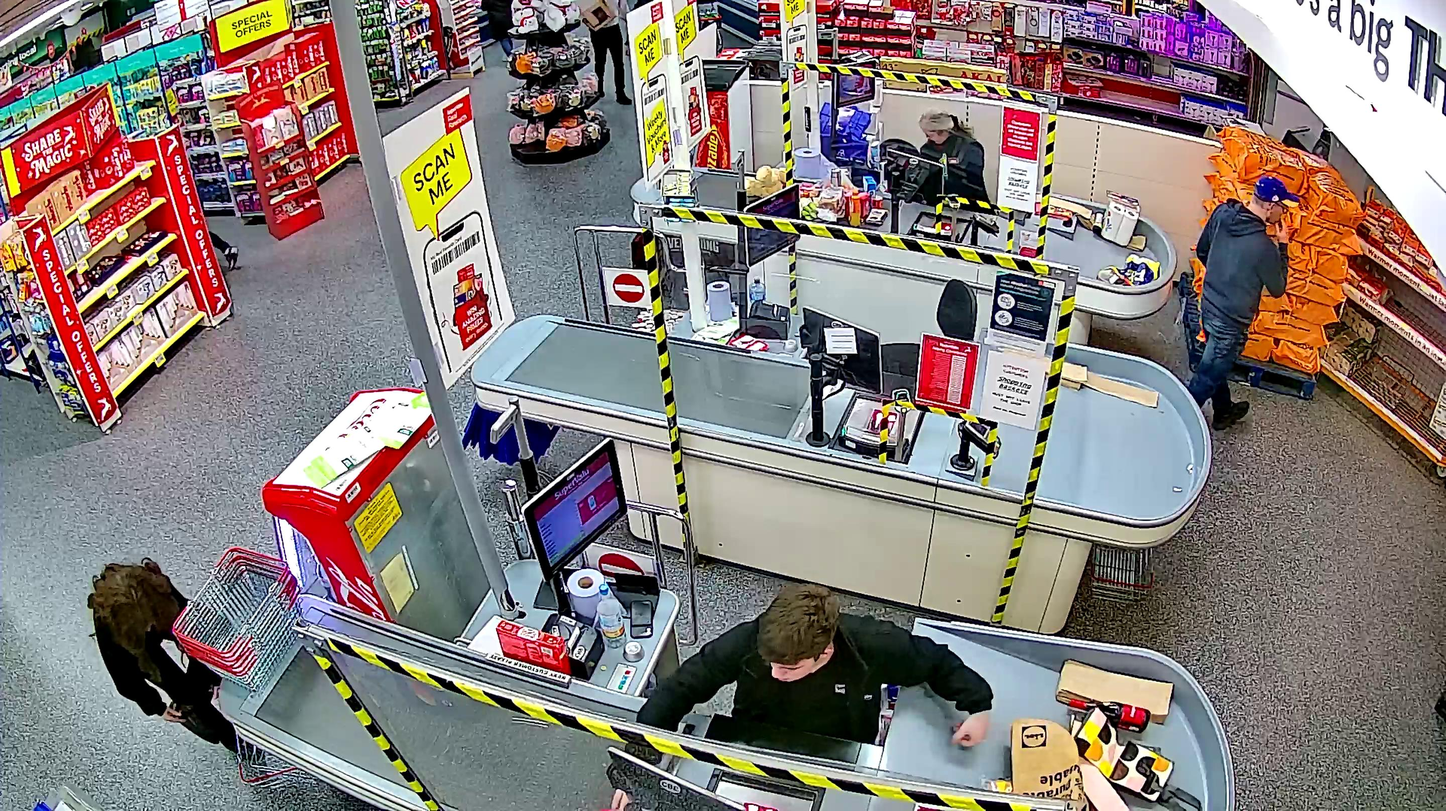occupied-checkout-counter: (519, 430, 929, 811), (829, 49, 1033, 248)
vacant-checkout-counter: (737, 176, 1002, 477)
